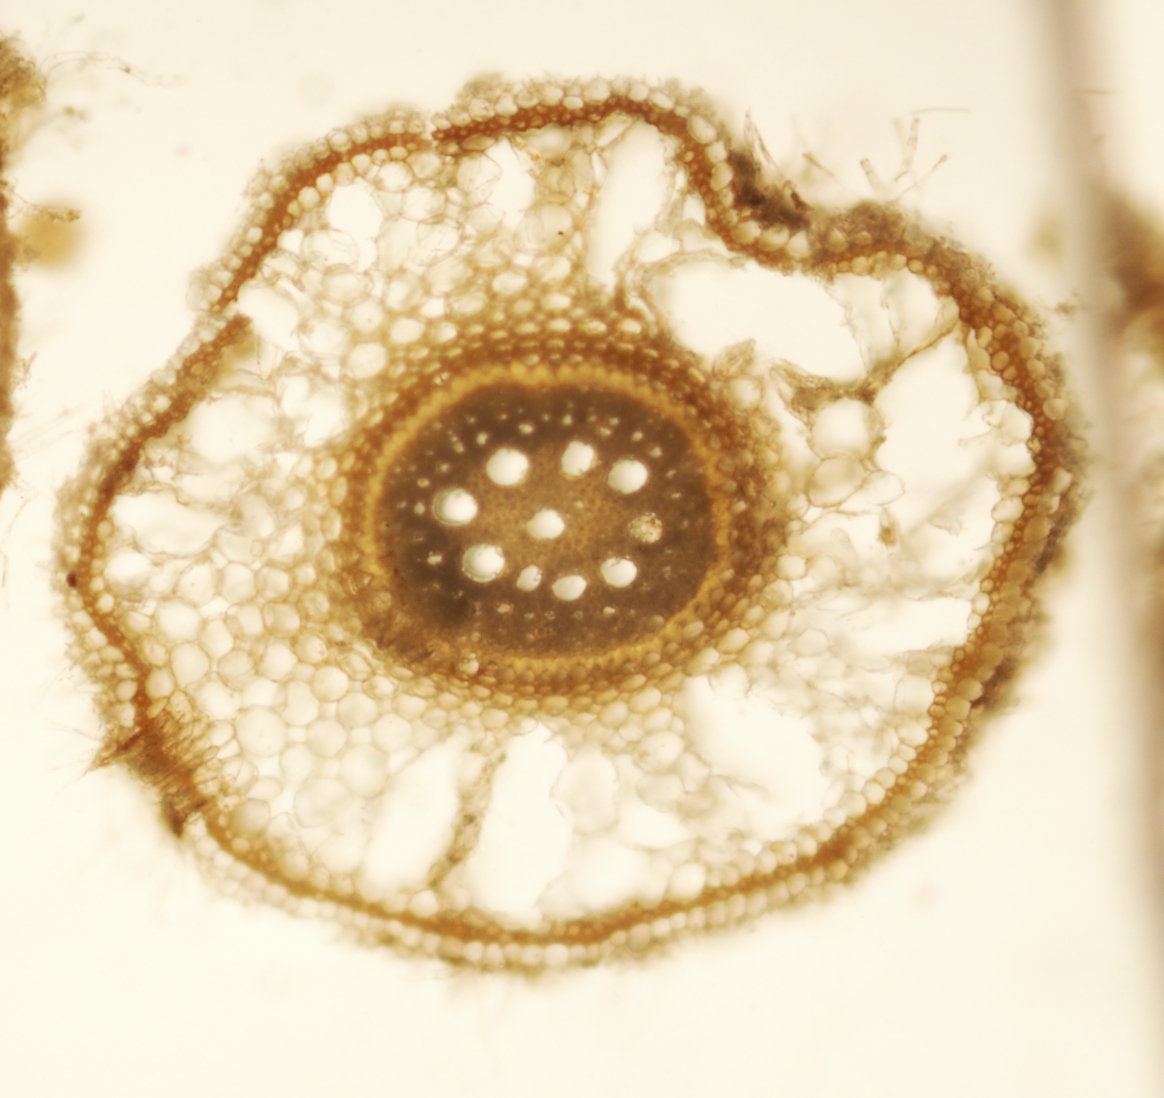lm: (431, 487, 477, 526), (485, 448, 529, 487), (461, 543, 505, 582), (607, 458, 647, 494), (560, 440, 599, 477), (527, 508, 564, 540), (627, 511, 662, 544), (600, 557, 637, 587), (552, 575, 586, 600), (516, 564, 542, 592)
